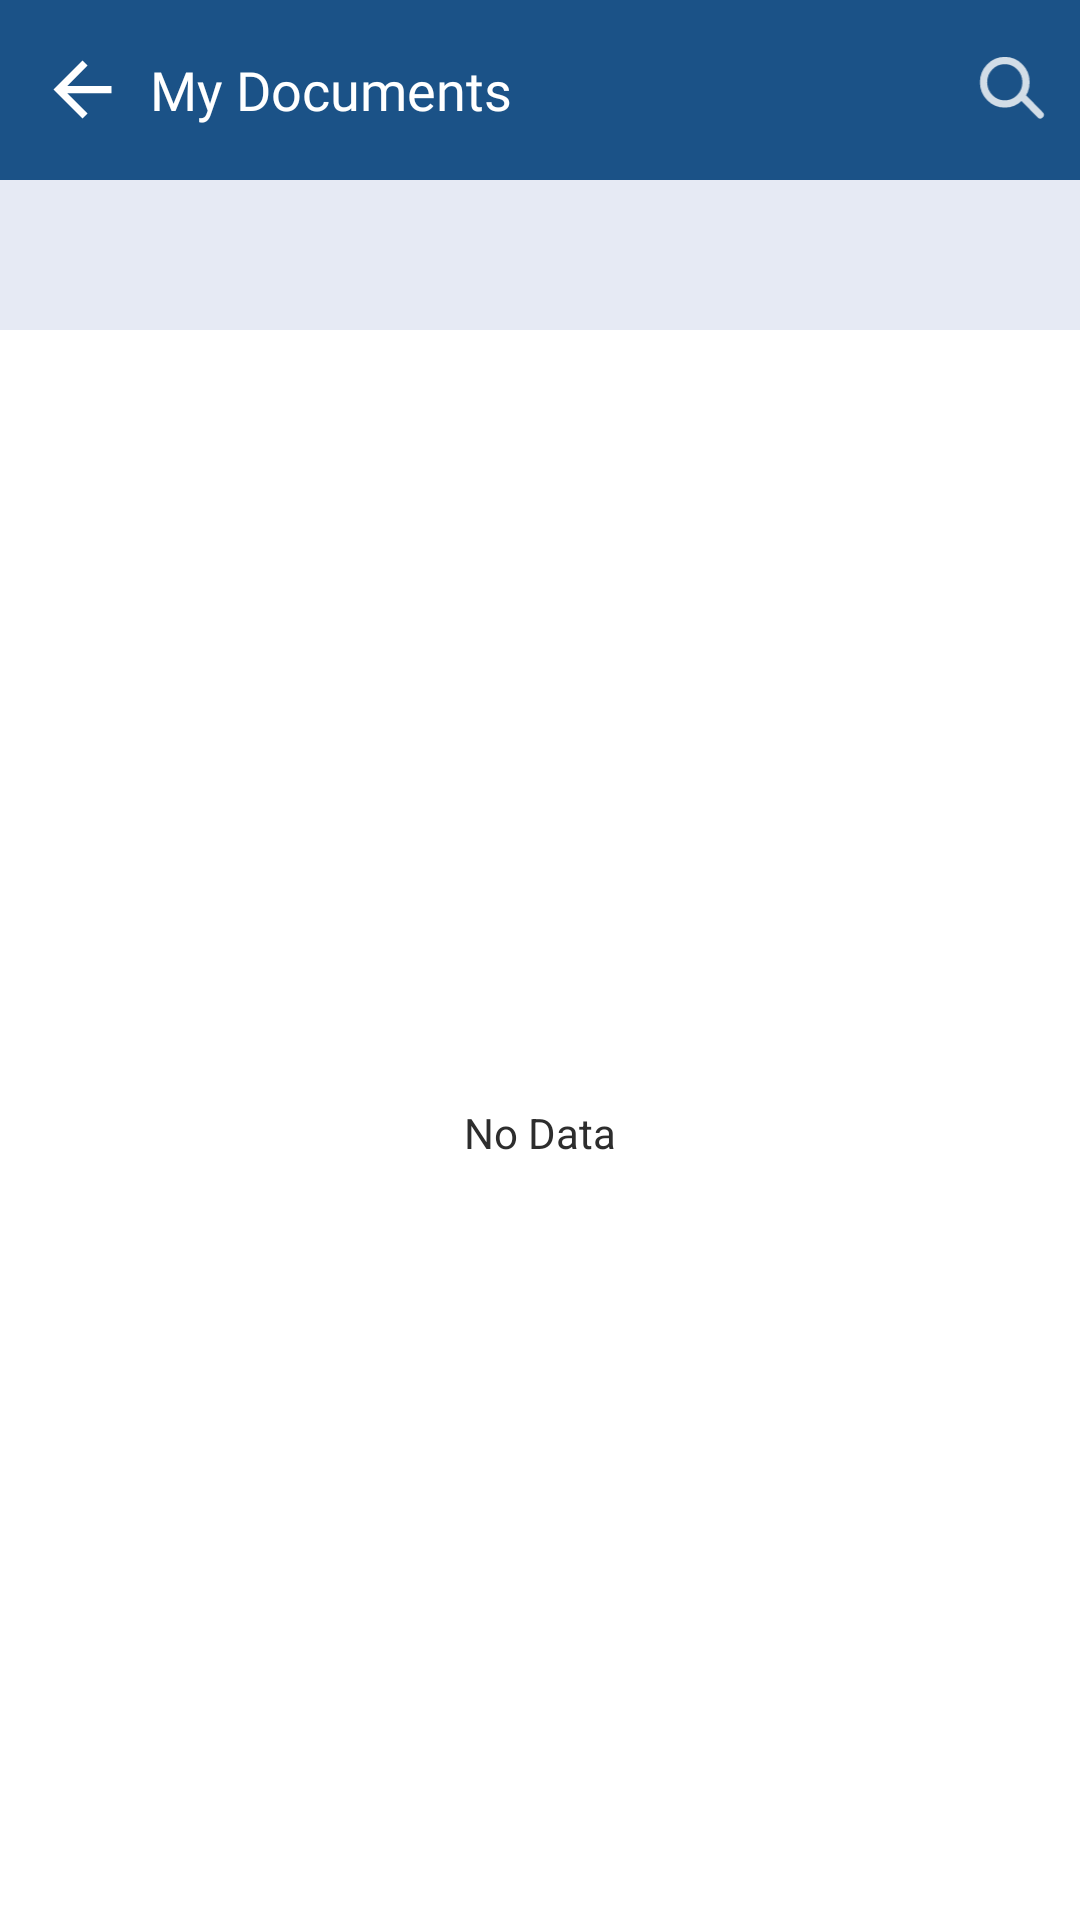

Icon click points for this 1080×1920 phone screenshot, format (x,y):
search et: (1012,88)
